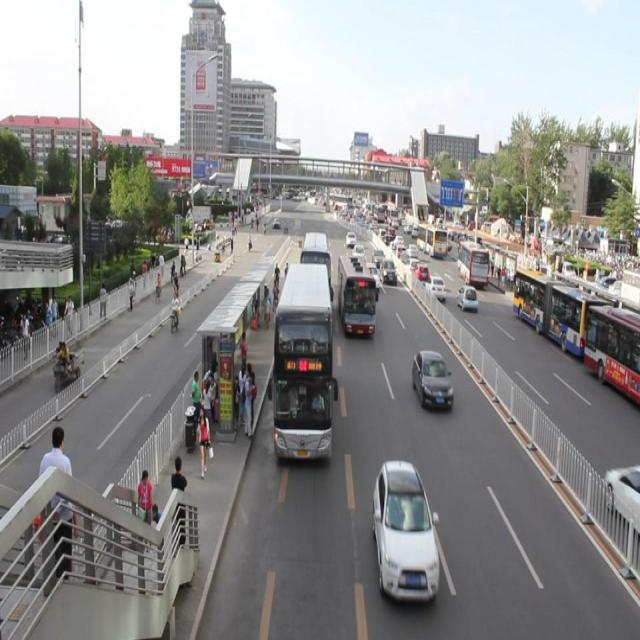car: (368, 456, 443, 606), (407, 342, 456, 412), (360, 260, 381, 295), (378, 258, 400, 286), (370, 245, 388, 268), (350, 241, 366, 265)
van: (266, 263, 342, 465), (334, 252, 380, 342), (298, 226, 334, 313)
